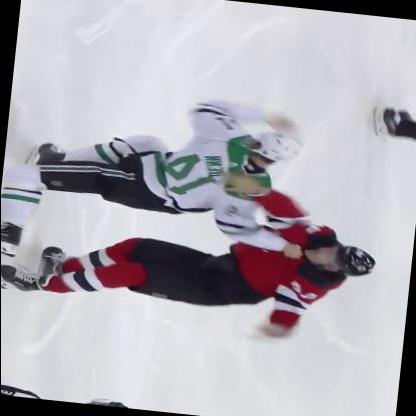voilence: (1, 80, 393, 351)
